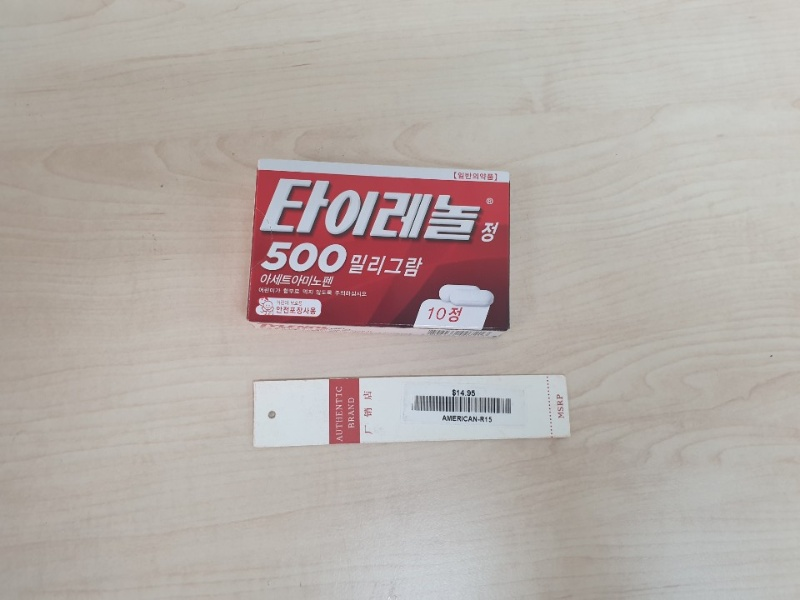tylenol: (248, 156, 513, 335)
